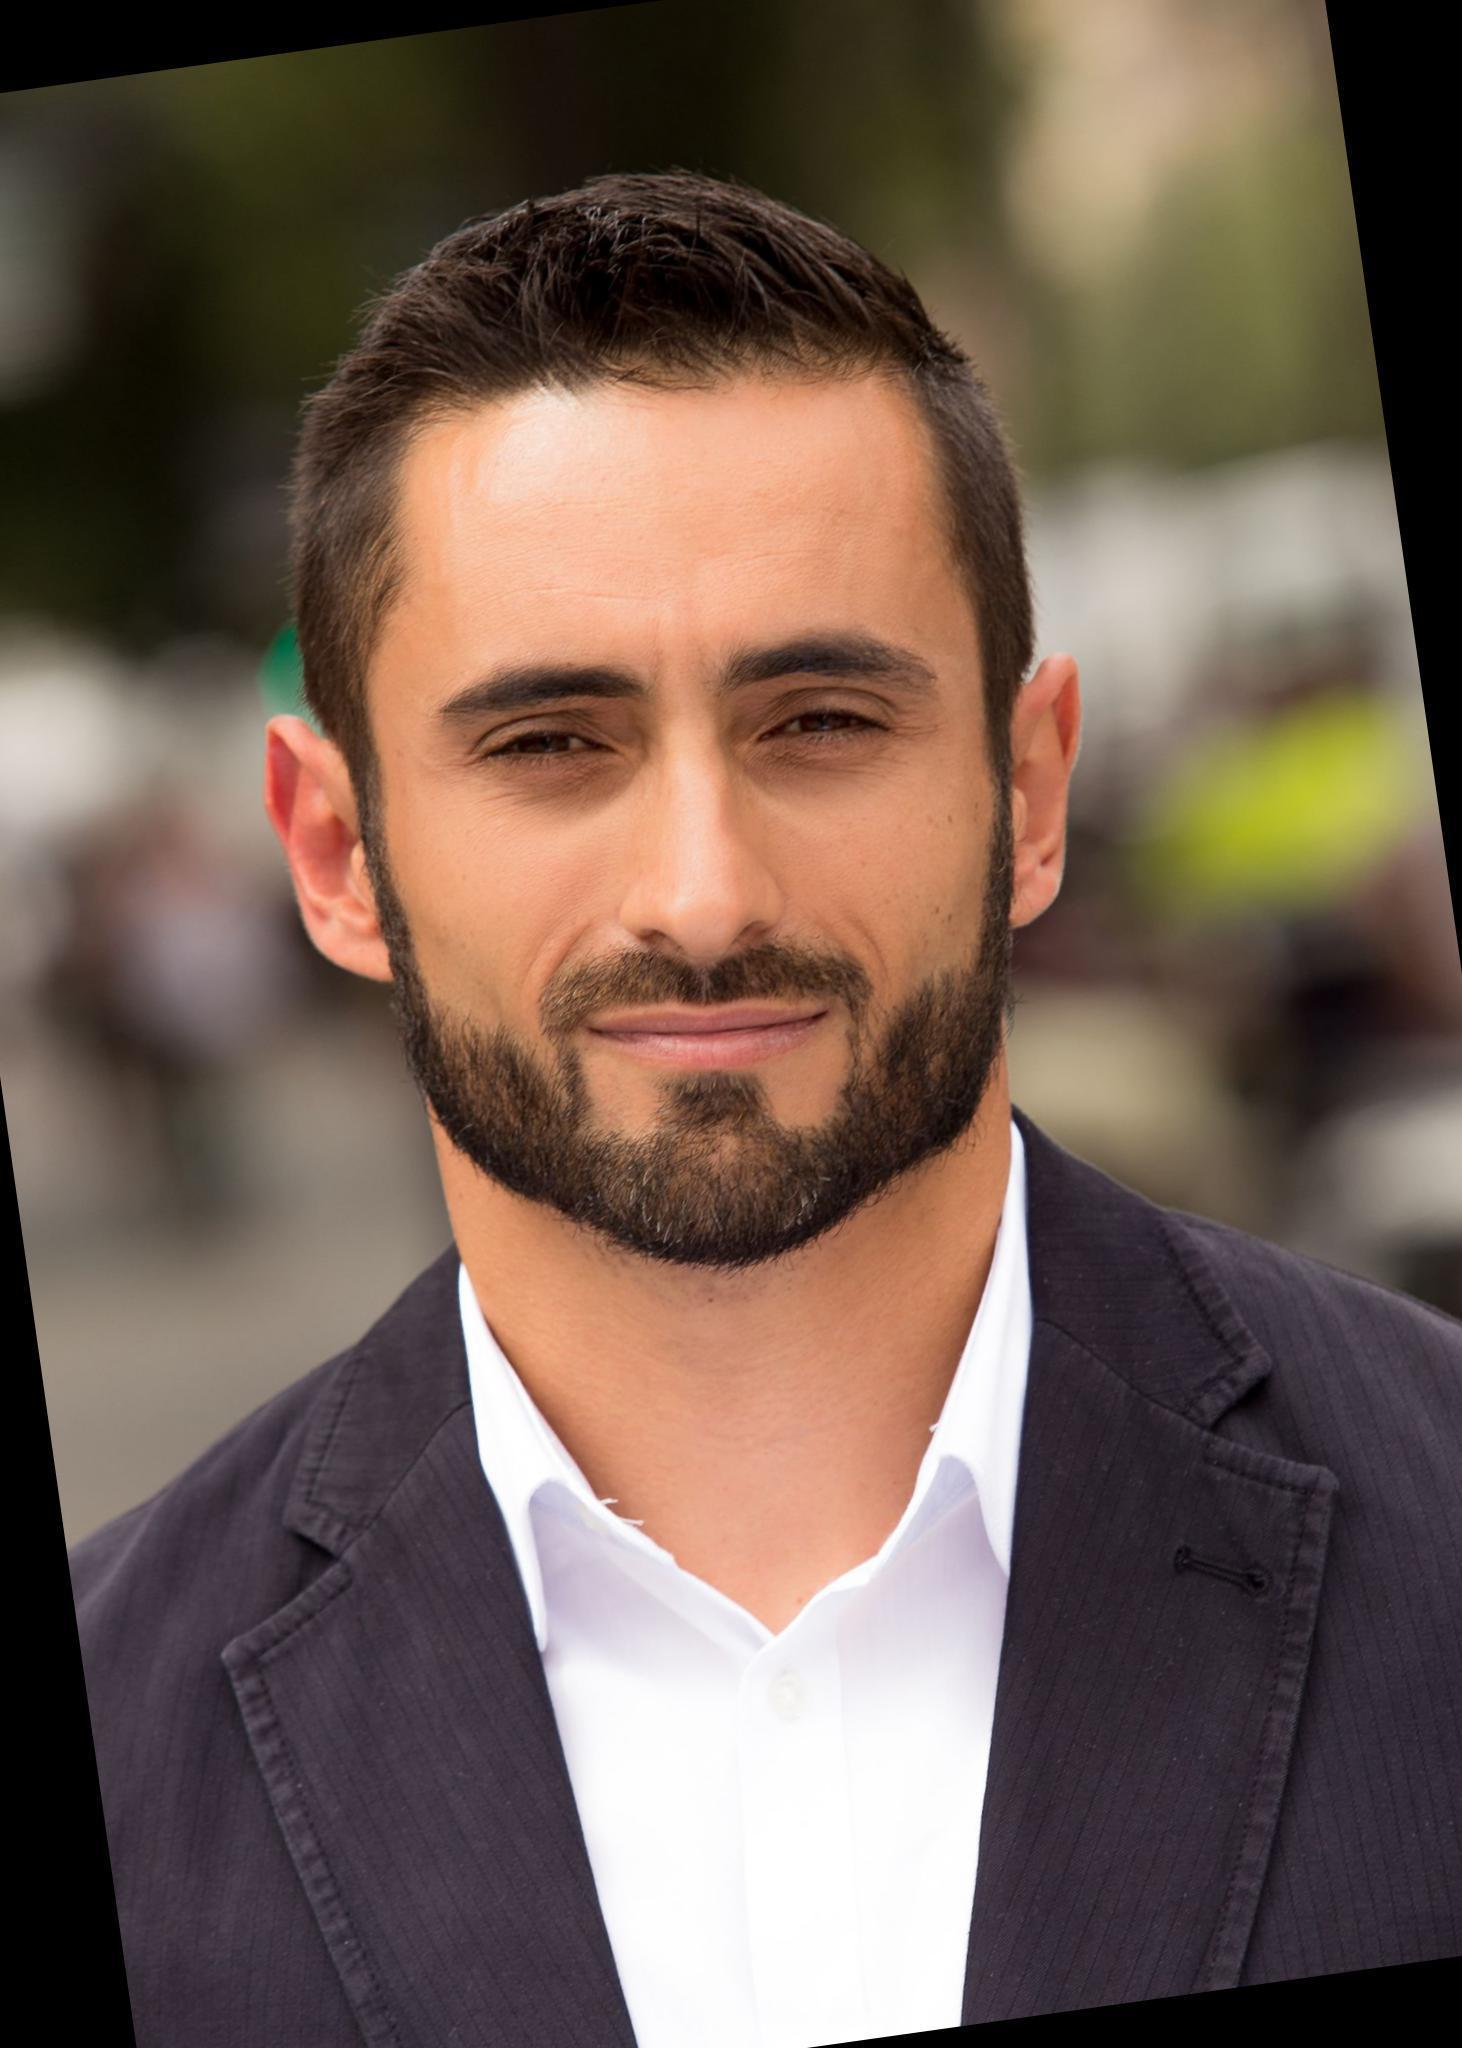Sober: (418, 372, 989, 1234)
